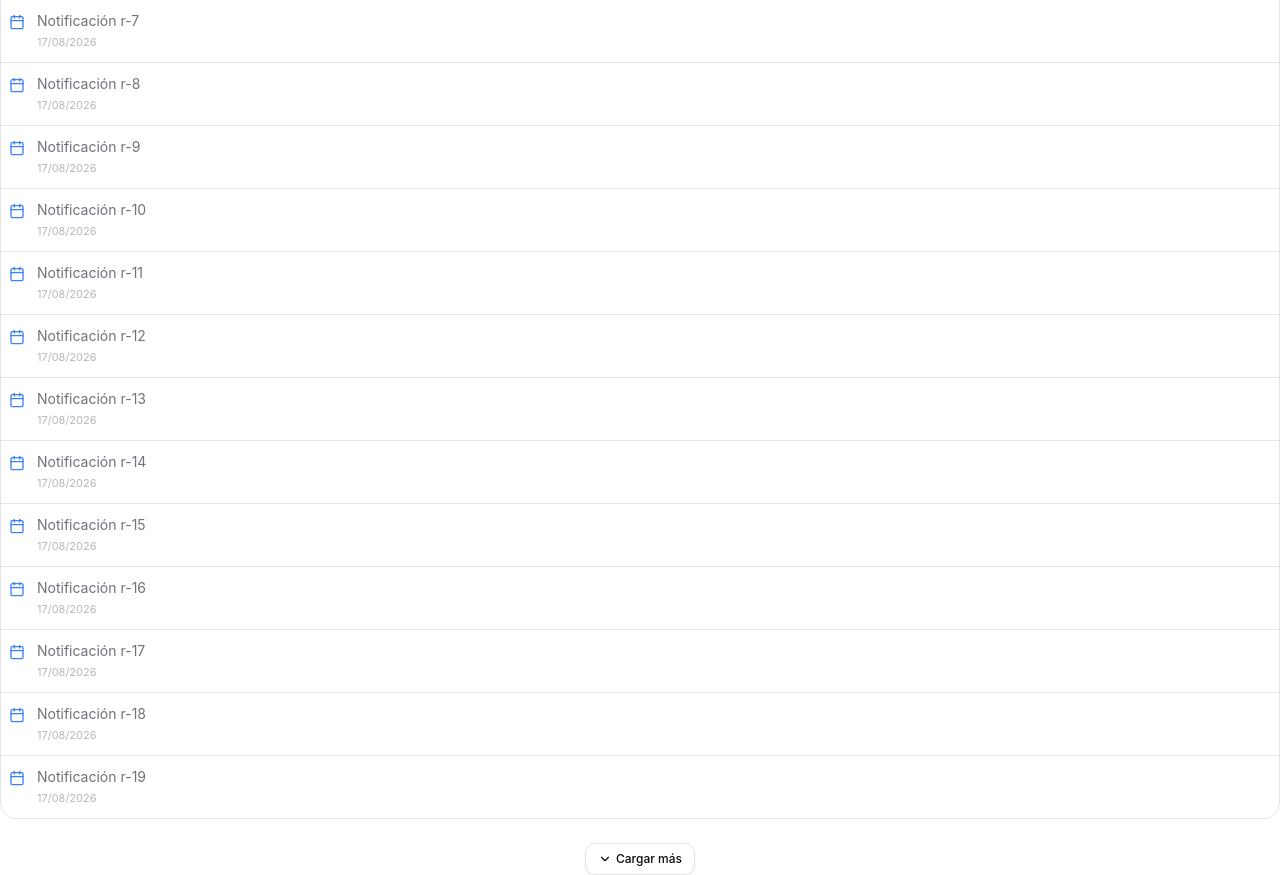
Test: NotificationsList › appends the next page and hides the button when the server returns fewer than the page size
(page scrolled)
Step 1. Click the button "Cargar más" → click(640, 859), box 585,843 -> 695,874
(page scrolled)
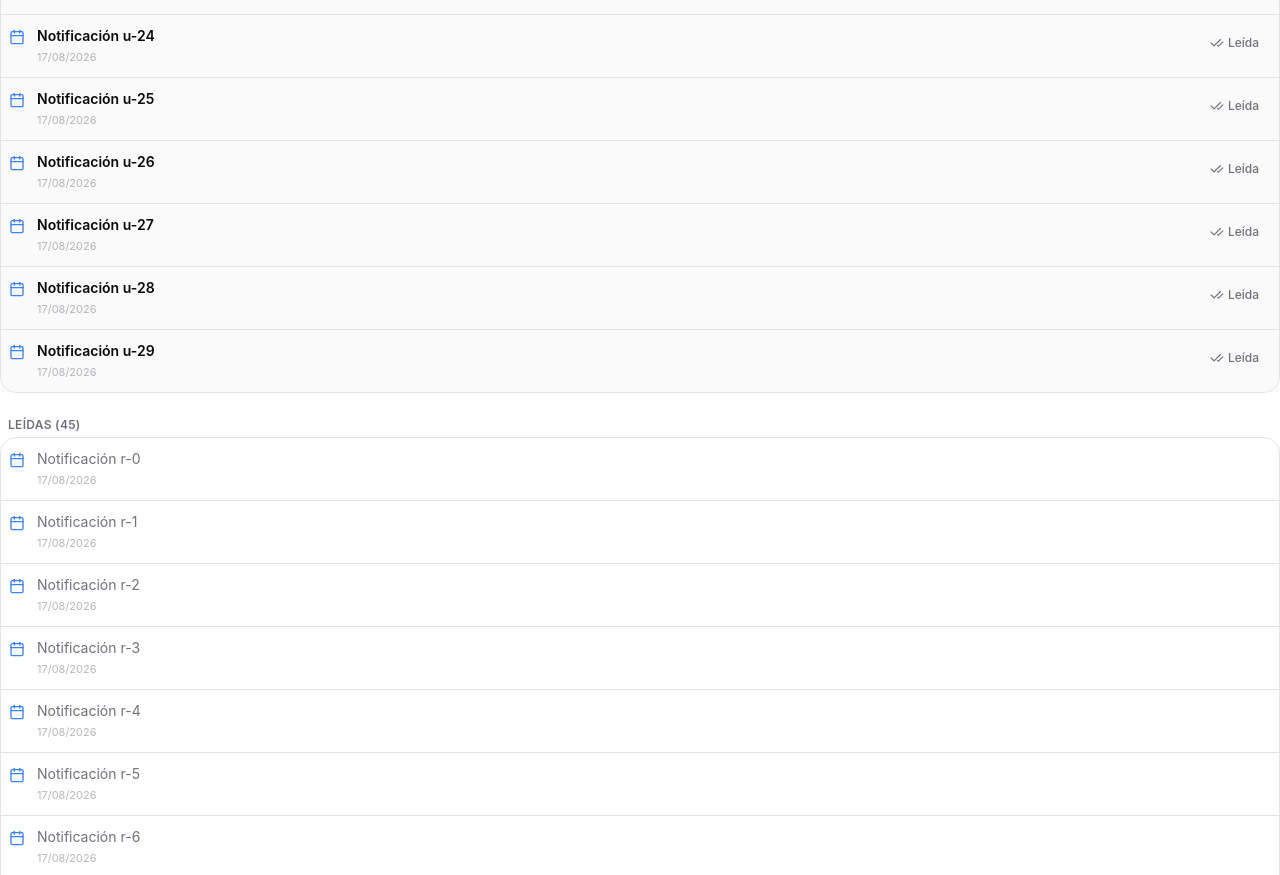
Now the heading "Leídas (45)" is shown, box 8,417 -> 81,432
Now the button "Cargar más" is gone
